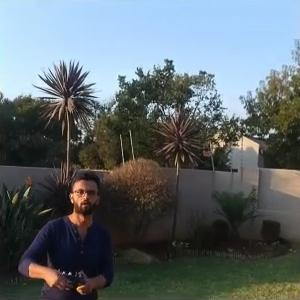follow: (13, 165, 118, 298)
